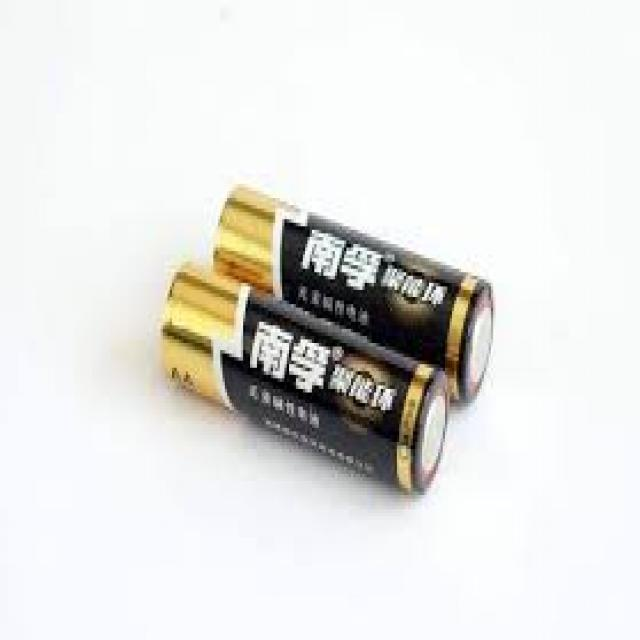non-organic waste: (161, 255, 451, 494), (210, 182, 495, 406)
